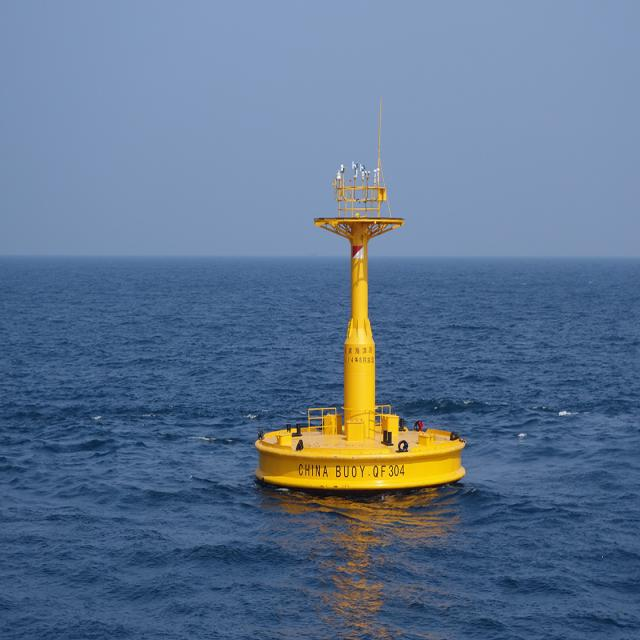buoy: (250, 144, 471, 494)
